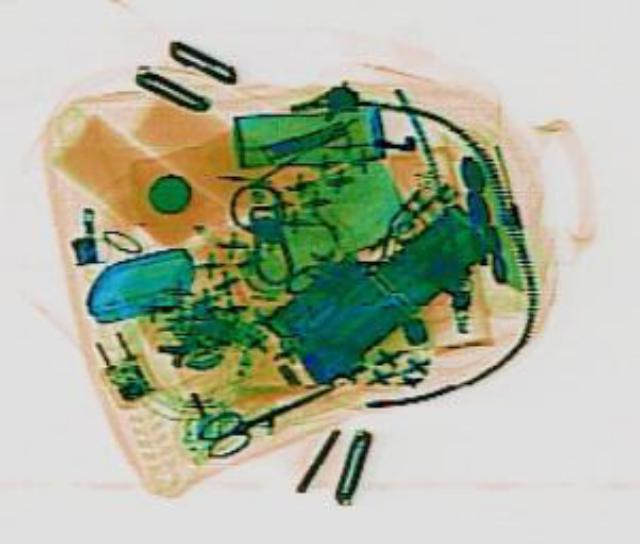Scissors: (186, 367, 344, 456)
